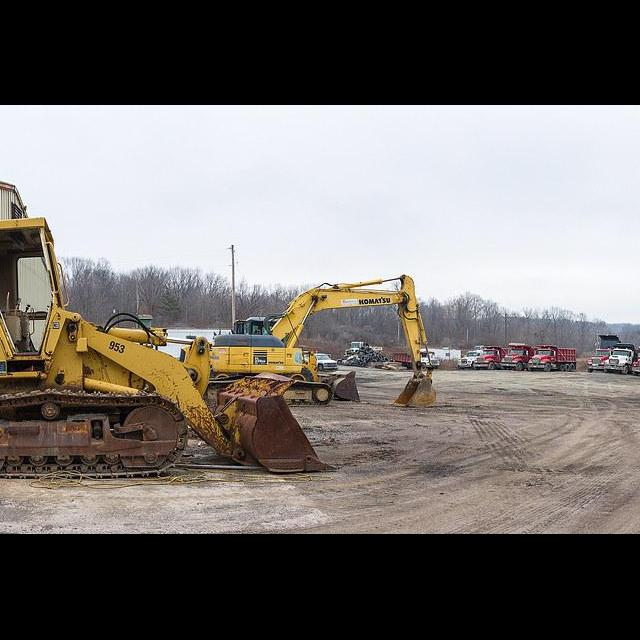Excavator: (181, 276, 438, 408)
Hardhat: (310, 352, 314, 354)
Person: (308, 352, 318, 376)
Safety Vest: (310, 356, 316, 365)
dump truck: (529, 345, 577, 373), (587, 335, 622, 373), (604, 343, 638, 375), (502, 343, 539, 371), (393, 350, 440, 371), (474, 346, 510, 371), (458, 345, 486, 369), (345, 342, 383, 359), (632, 346, 640, 375)
truck: (301, 350, 337, 371)
wheel loader: (0, 216, 339, 480)
